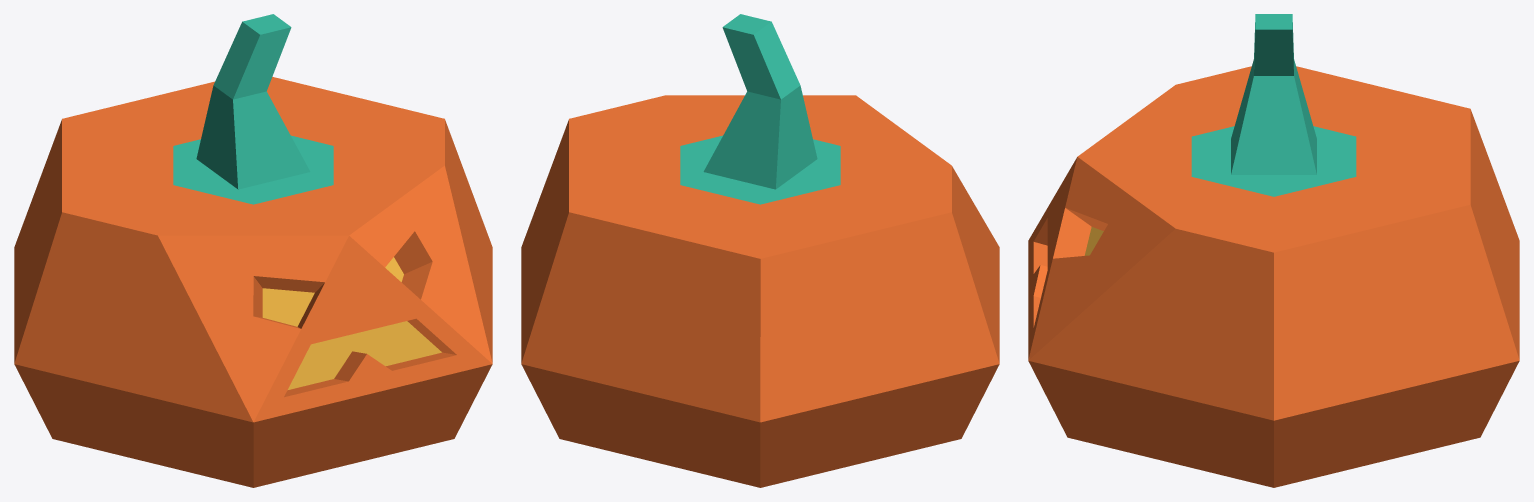
The model's file is pumpkinCarved.dae.
3 renders of one model, left to right at view 1: azimuth 30°, elevation 25°; view 2: azimuth 150°, elevation 25°; view 3: azimuth 270°, elevation 25°, orthographic. The views are drawn at different scales.
Parts seen in each view (by area): view 1: pumpkinCarved; view 2: pumpkinCarved; view 3: pumpkinCarved.
Boxes of the visible parts, x1,y1,x2,y2 form: pumpkinCarved: (14, 14, 492, 487); pumpkinCarved: (521, 14, 999, 487); pumpkinCarved: (1028, 14, 1519, 487).
Bounding box in the file's own units: 0.357 × 0.2583 × 0.3092.
